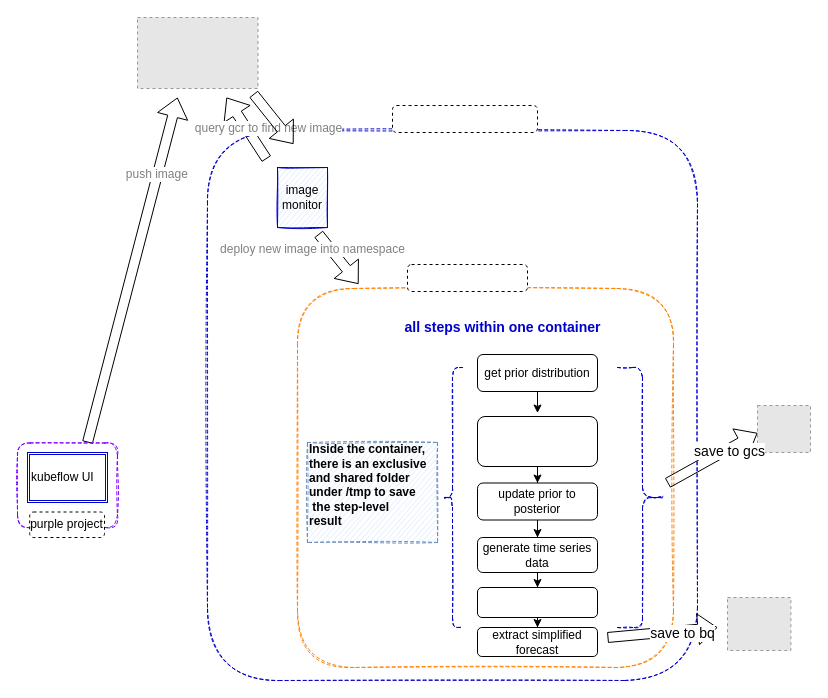
The diagram is 828 pixels wide and 698 high, and some of its shapes have lost their labels. Grey dashed boxes stand in for pictures. Each missing label, with the box of its shape:
extract time series from source training data: (476, 416, 598, 466)
namespace: (406, 264, 528, 292)
Red Kubernetes cluster: (392, 104, 538, 132)
ucm simulation: (476, 586, 598, 618)
